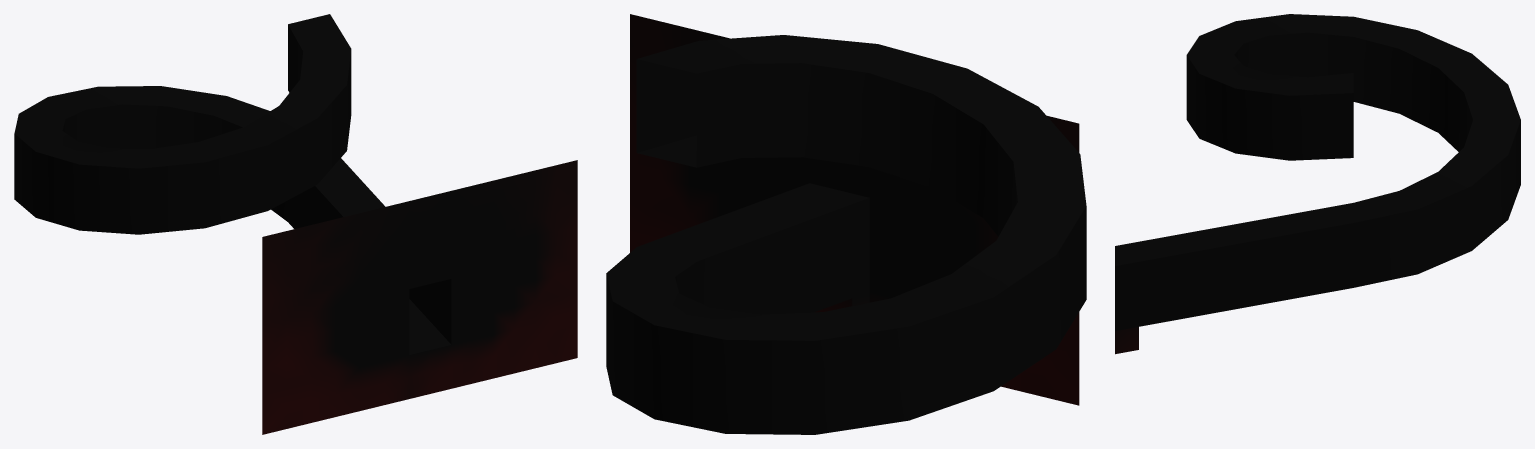
The model's file is CaveEntranceSpiral.obj.
3 renders of one model, left to right at view 1: azimuth 30°, elevation 25°; view 2: azimuth 150°, elevation 25°; view 3: azimuth 270°, elevation 25°, orthographic. The views are drawn at different scales.
Visible parts, largest first — view 1: CaveEntranceSpiral; view 2: CaveEntranceSpiral; view 3: CaveEntranceSpiral.
Boxes of the visible parts, x1=… form: CaveEntranceSpiral: x1=14, y1=14, x2=577, y2=434; CaveEntranceSpiral: x1=606, y1=14, x2=1086, y2=434; CaveEntranceSpiral: x1=1115, y1=14, x2=1520, y2=354.
Size of the model in its own units: 20 by 13 by 17.
